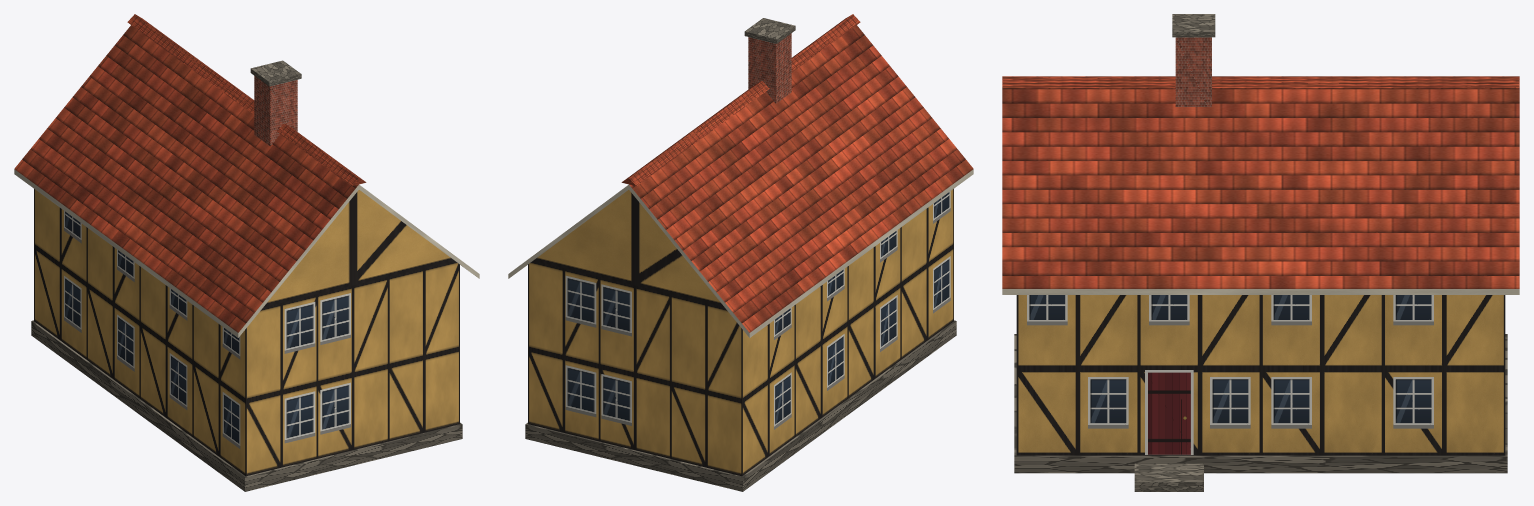
Rendered from SM_TownHouse_Timber.fbx.
3 views of the same model, side by side, from view 1: azimuth 30°, elevation 25°; view 2: azimuth 150°, elevation 25°; view 3: azimuth 270°, elevation 25° (orthographic). The views are drawn at different scales.
Parts seen in each view (by area): view 1: SM_TownHouse_Timber; view 2: SM_TownHouse_Timber; view 3: SM_TownHouse_Timber.
Boxes of the visible parts, x1,y1,x2,y2 form: SM_TownHouse_Timber: (14, 14, 479, 491); SM_TownHouse_Timber: (508, 14, 973, 491); SM_TownHouse_Timber: (1002, 14, 1519, 491).
Bounding box in the file's own units: 860 × 1270 × 1054.
Materials: 1 (1 with a texture image).
